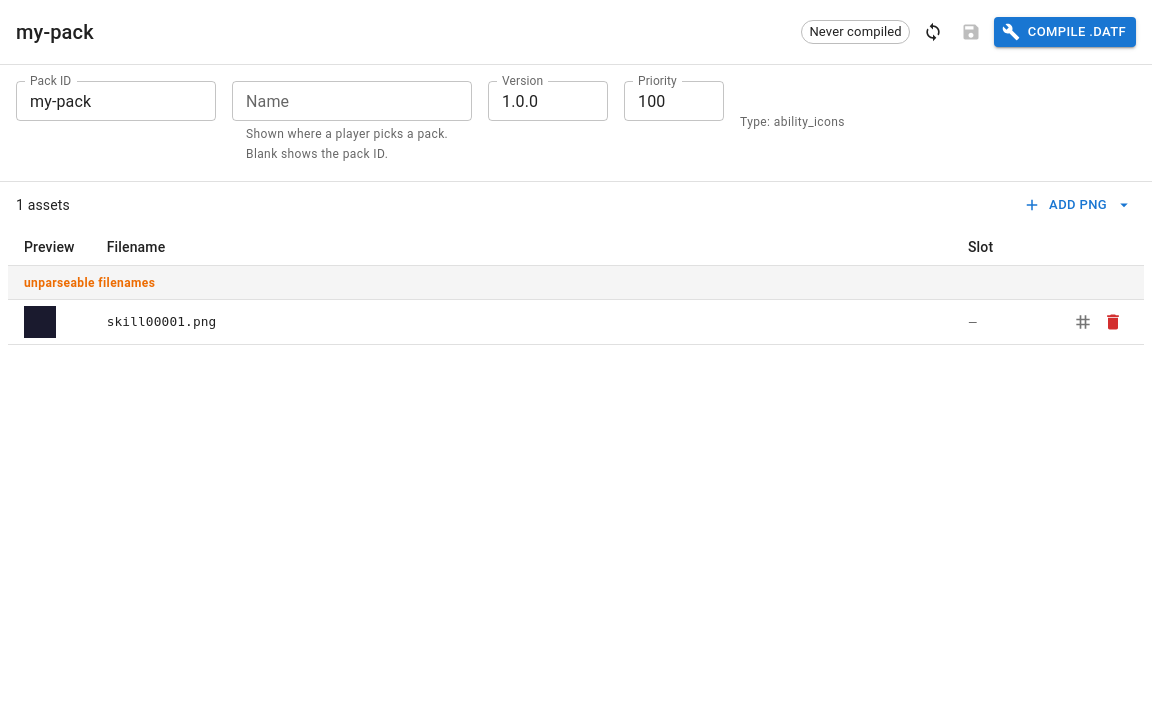
Test: PackEditor - renaming an asset › moves the file and renames the entry
The image size is (1152, 720).
Click the button named "rename skill00001.png": (1083, 322) [1068,308,1098,338]
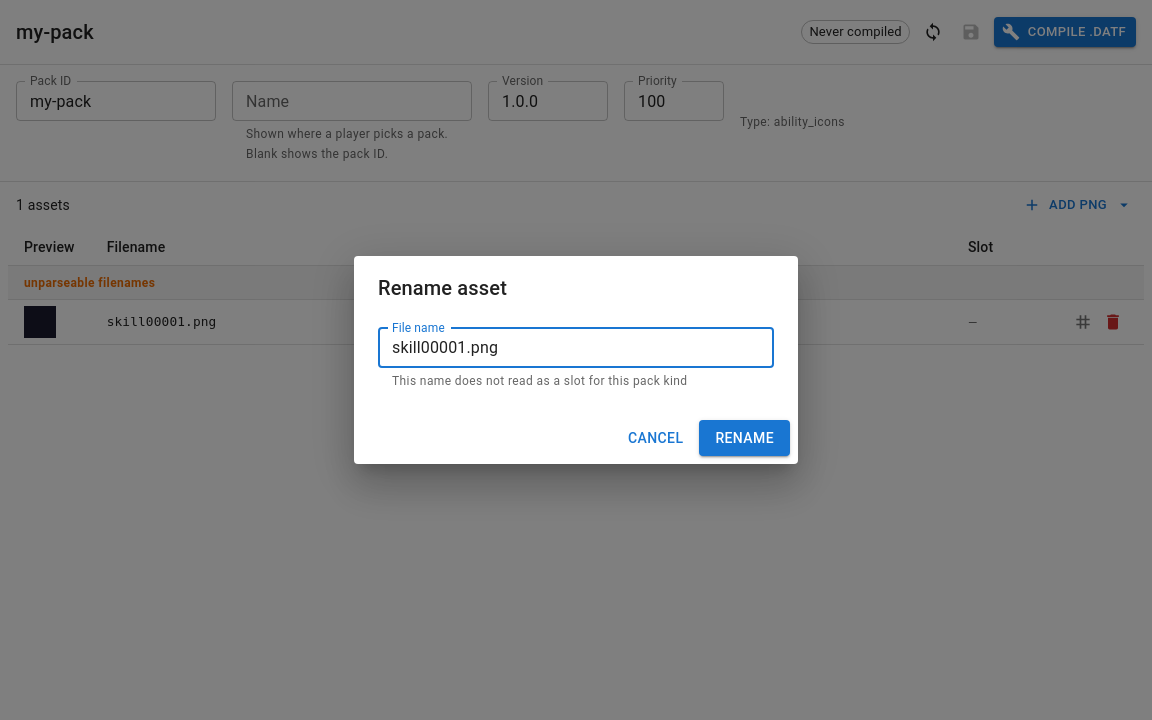
Replace the text in the field labelled "File name" with "skill00042.png": (576, 348) [378,328,774,368]
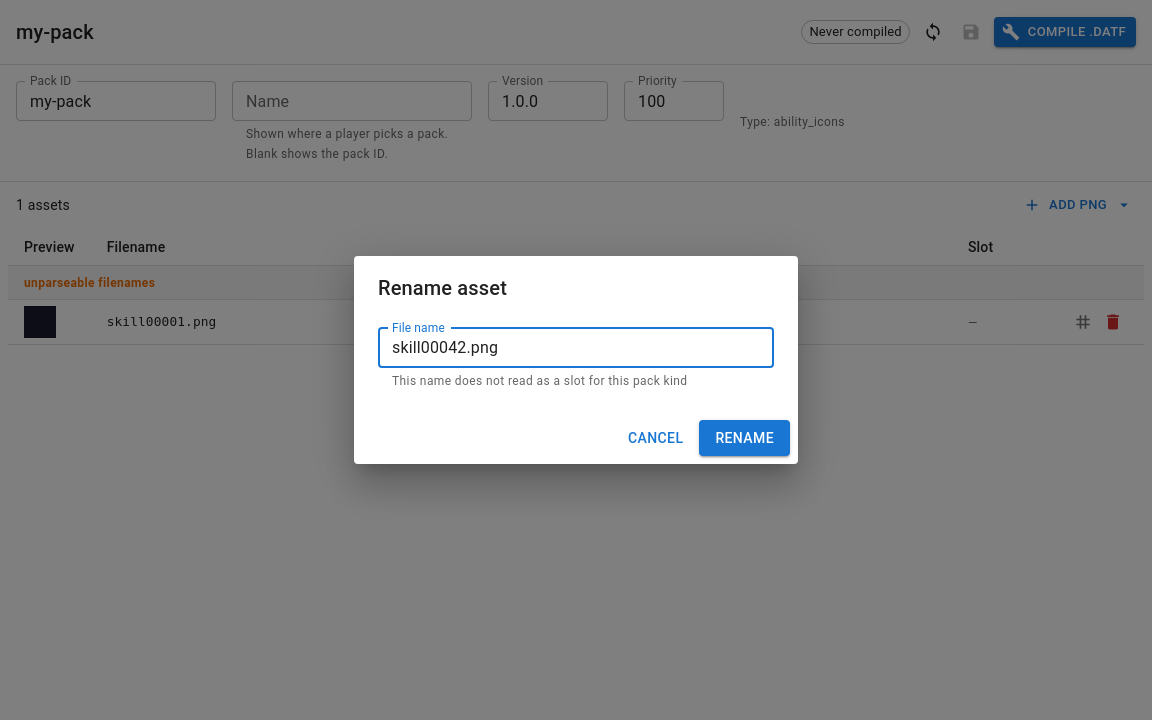
Click the button "Rename": (745, 438) [699,420,790,456]
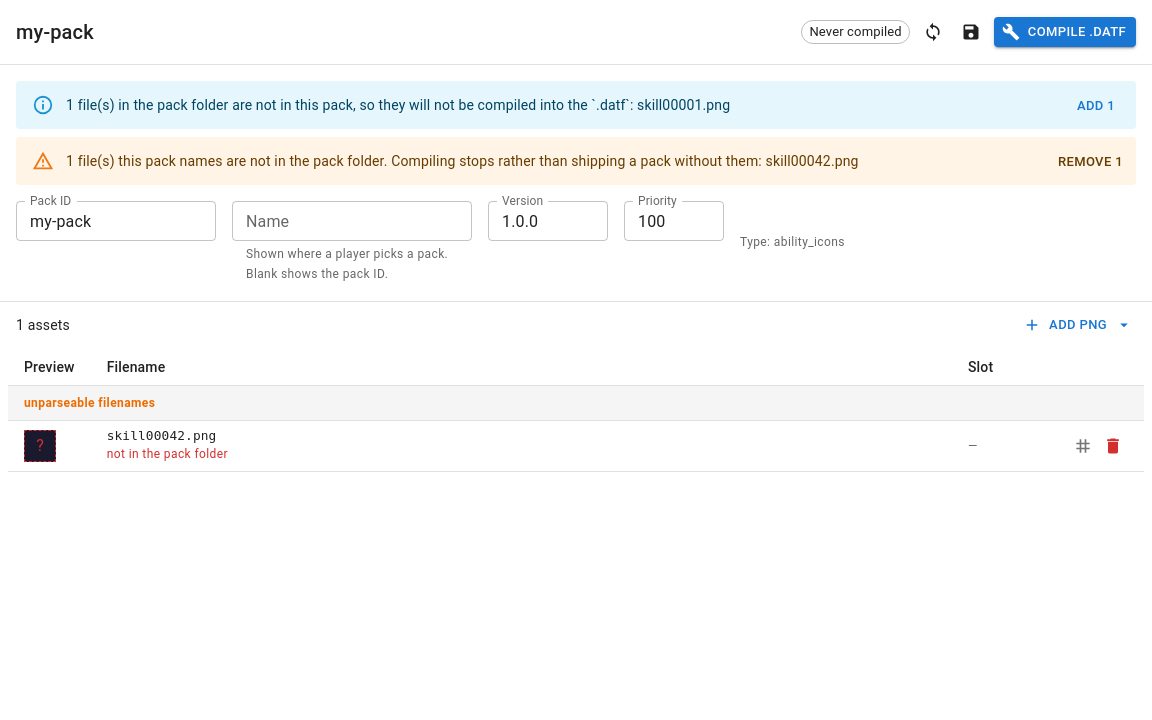
Now the button named "delete skill00042.png" is shown, box [1098,431,1128,461]
